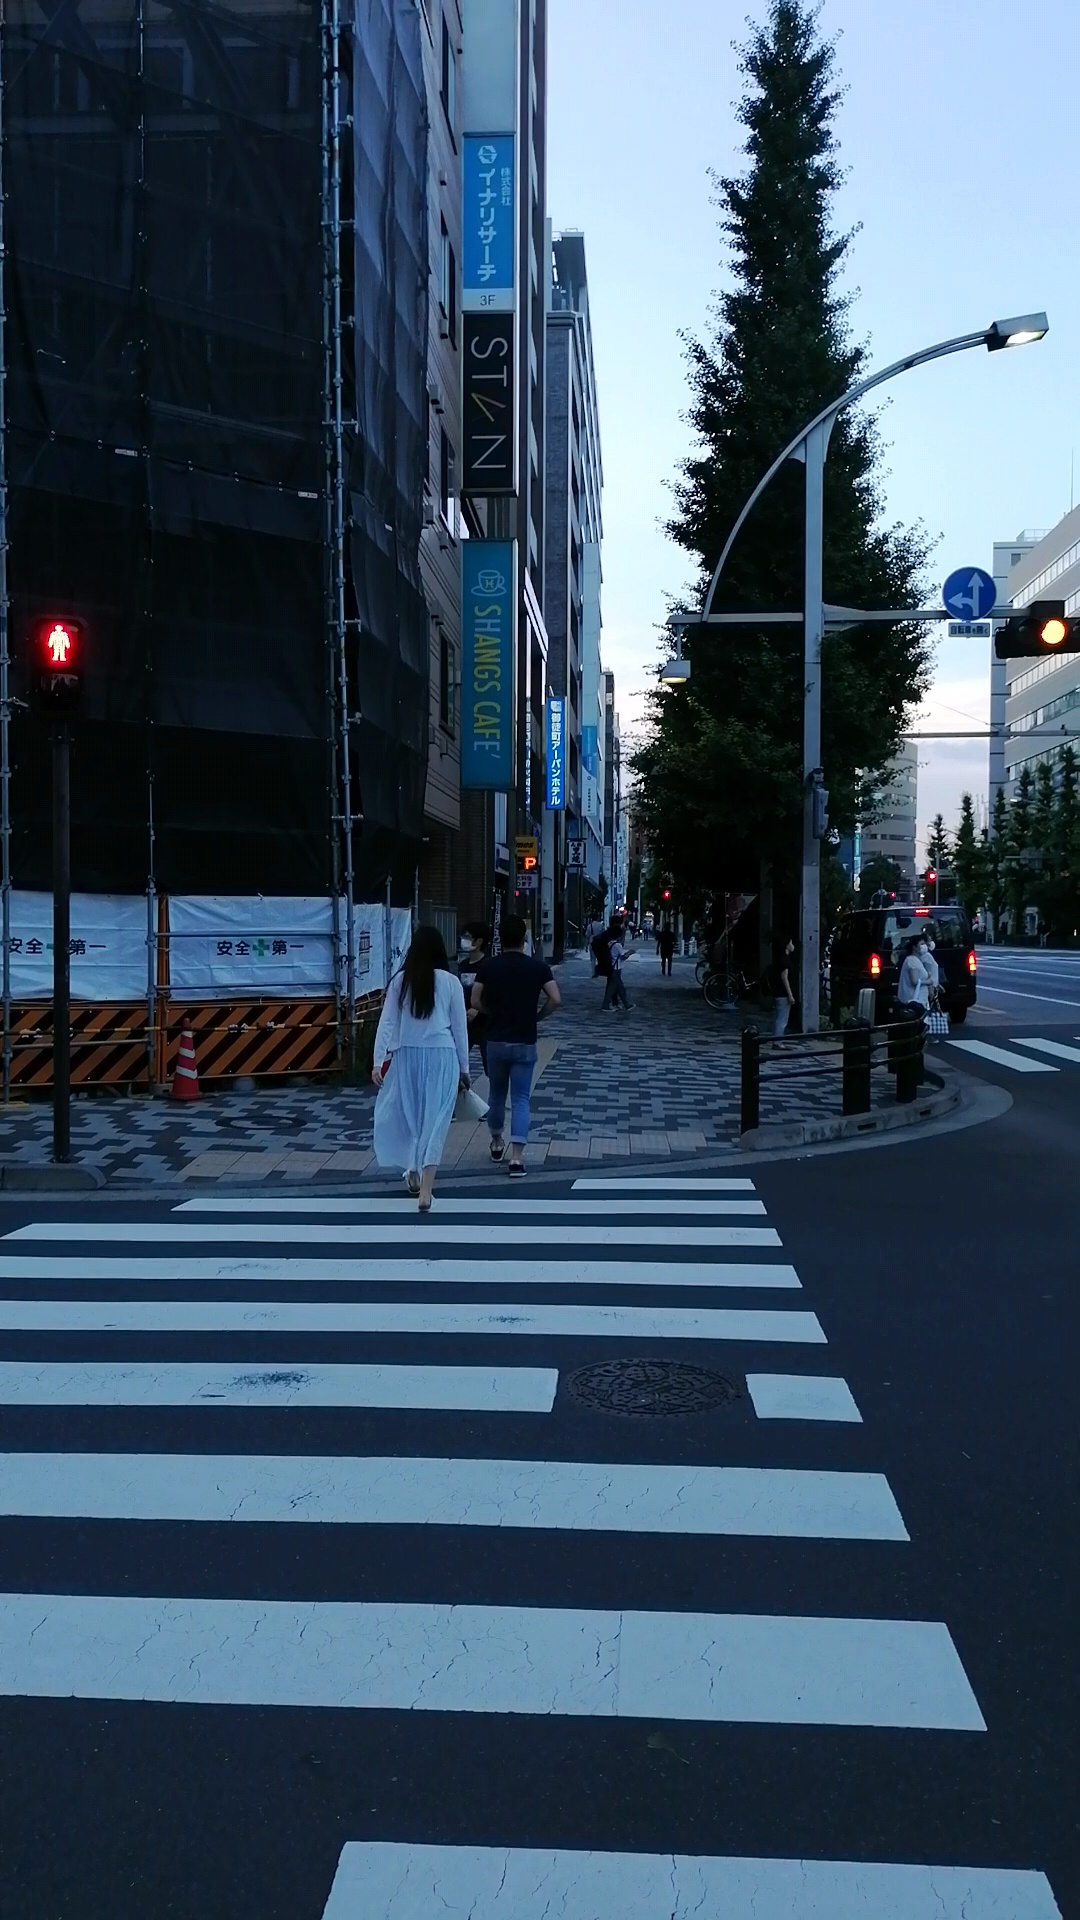red: (33, 608, 87, 716)
